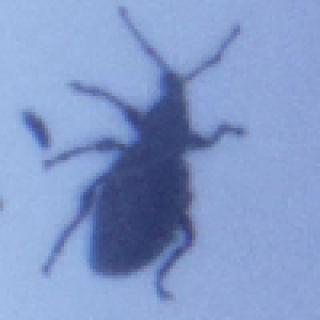bvw: (42, 1, 248, 310)
